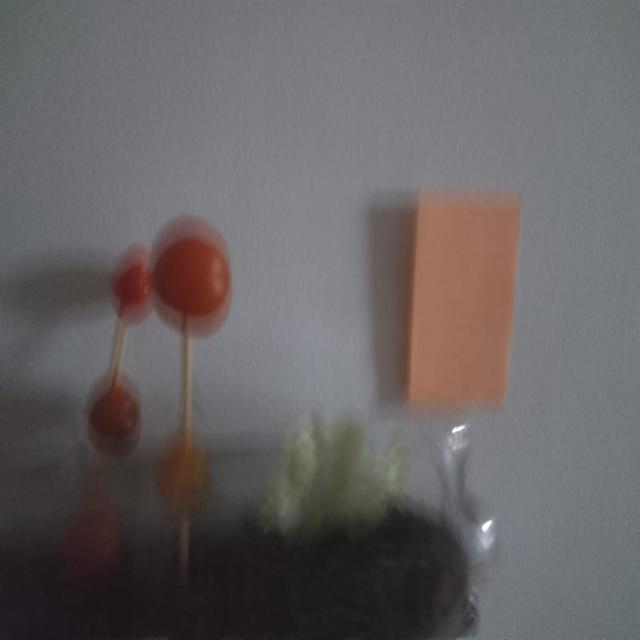card: (405, 191, 520, 410)
fruit_maturation: (156, 441, 209, 511)
fully_grown: (150, 215, 232, 339), (63, 498, 120, 586), (88, 381, 139, 454), (114, 262, 150, 309)
